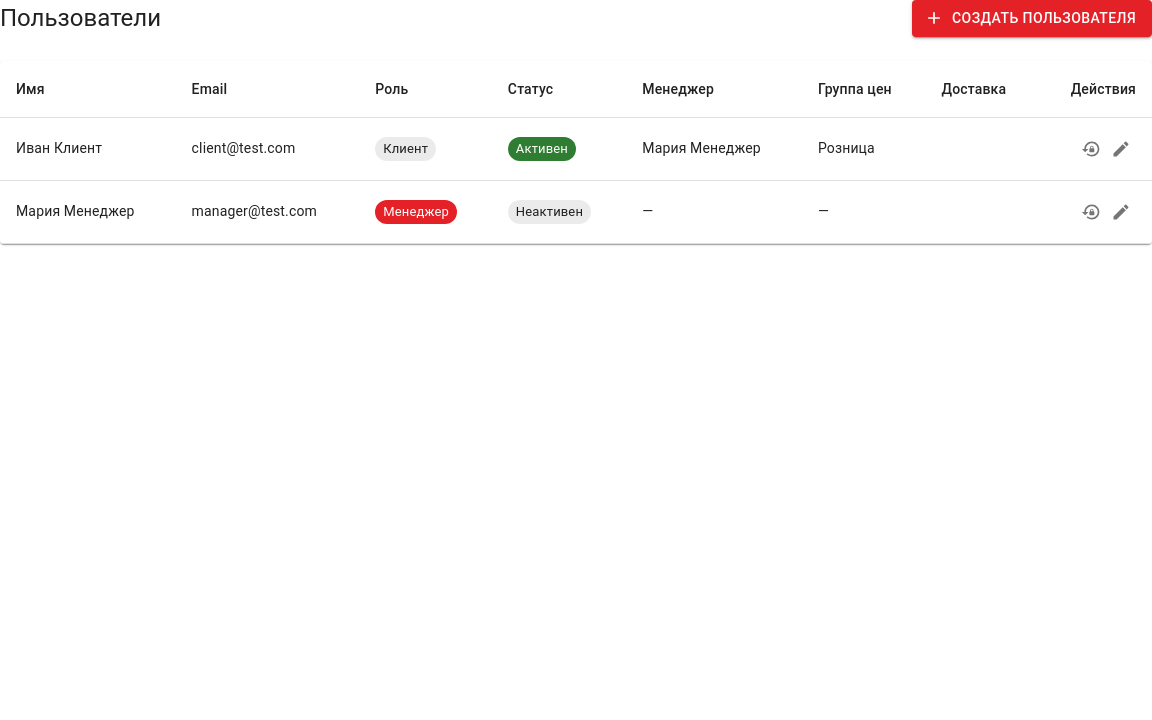
Test case: UsersPage › closes dialog when cancel clicked
Expected: the text "Иван Клиент" is shown, [0, 117, 176, 180]
Click the button named "редактировать" in the row of "Иван Клиент". click: (1121, 148)
box: [1106, 134, 1136, 164]
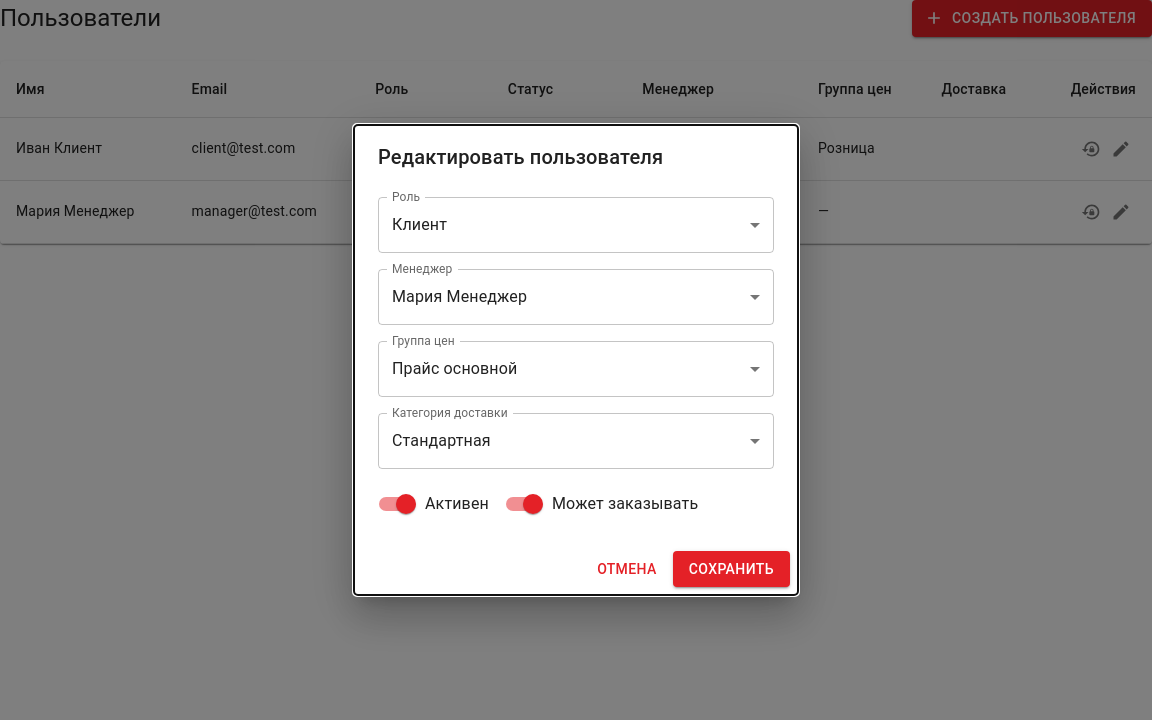
Expected: the dialog is shown, [354, 125, 798, 595]
Click the button "Отмена". click: (627, 569)
box: [589, 551, 665, 587]
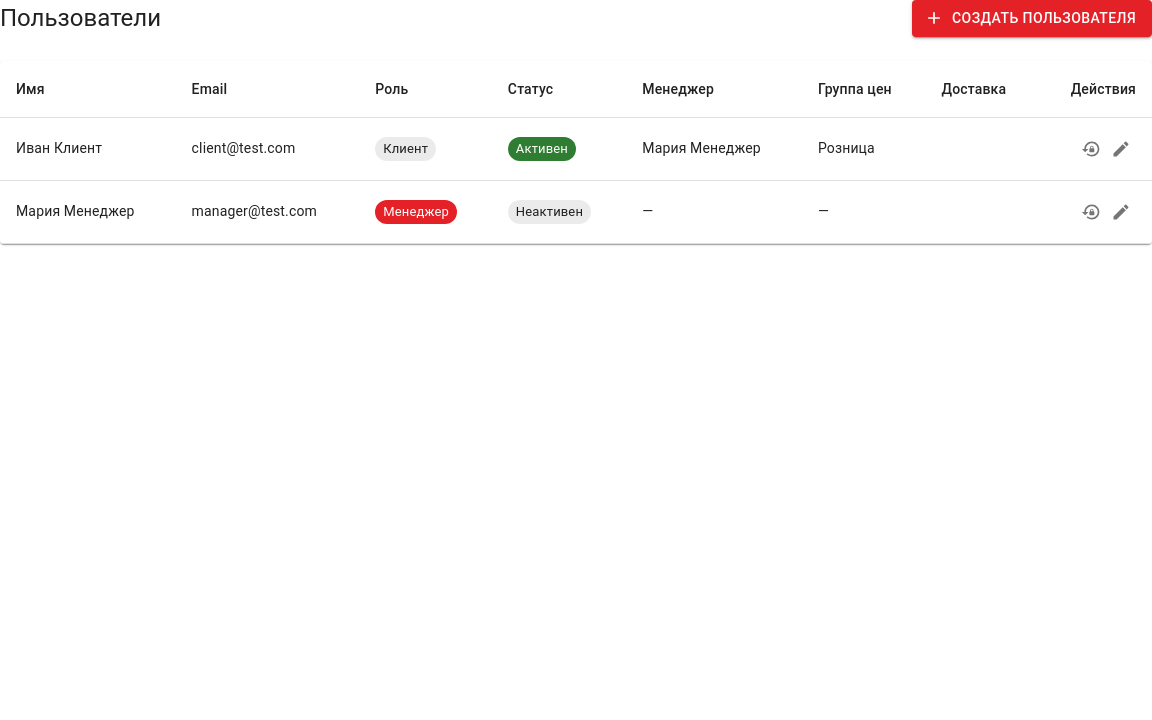
Expected: the dialog is gone
